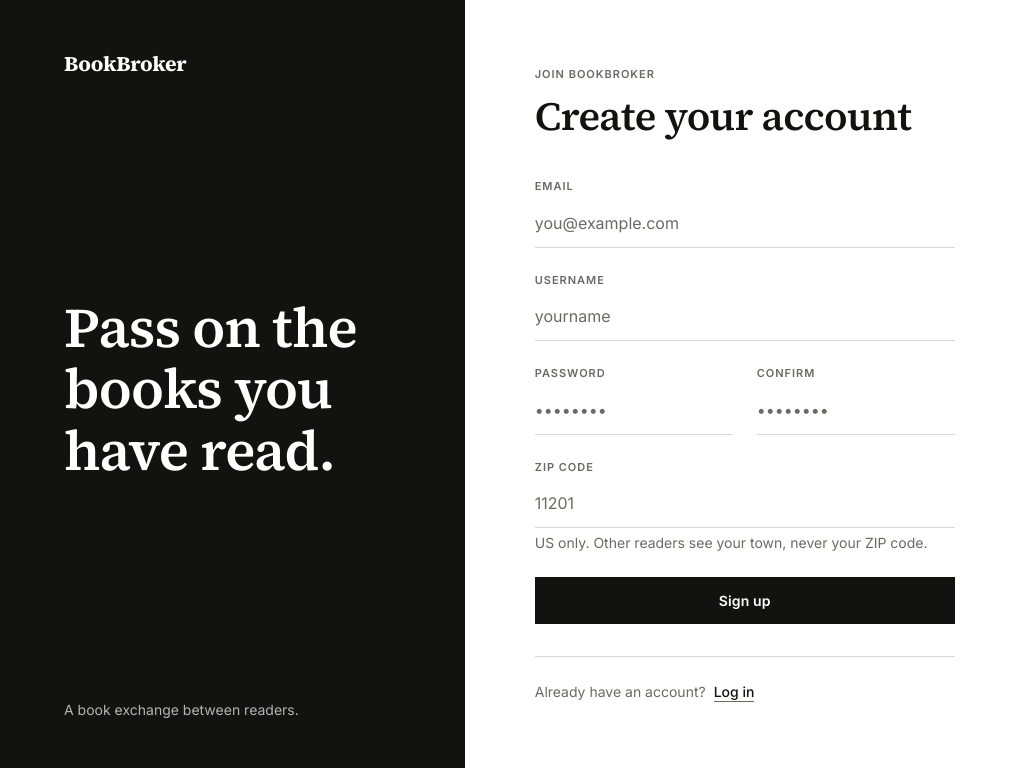
Test: sign-up ends on a check-your-email state
This screenshot has width=1024, height=768.
Type "reader@example.com" into the field labelled "Email" at (745, 223), box [535,199,955,248]
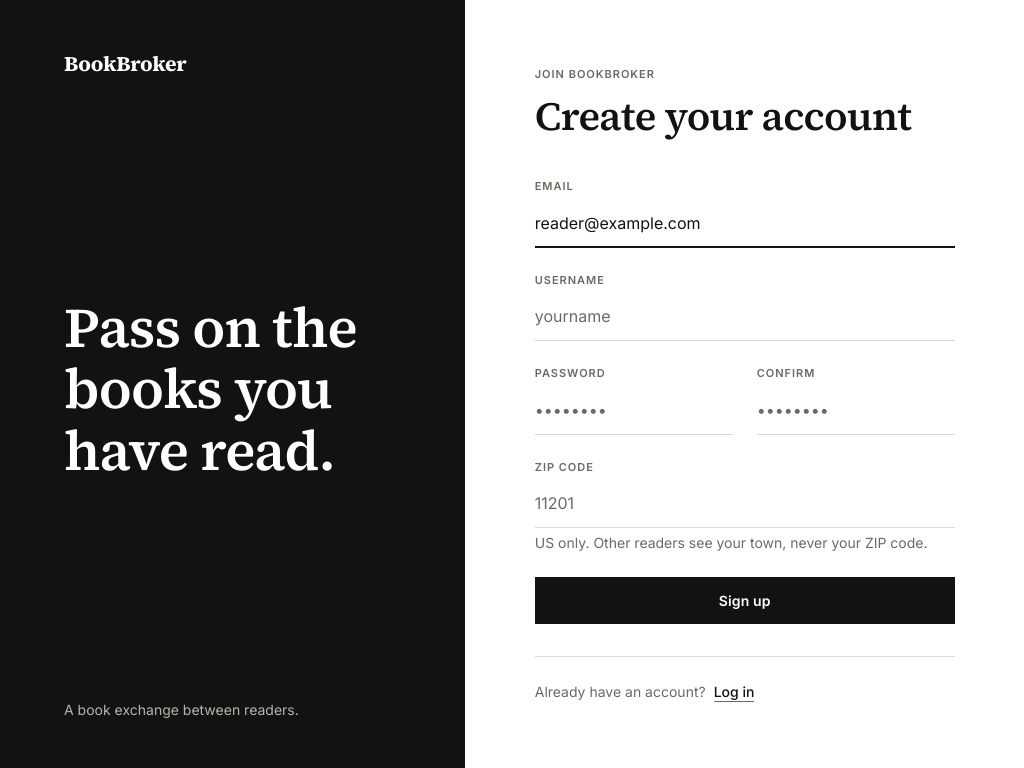
Type "reader" into the field labelled "Username" at (745, 317), box [535,292,955,341]
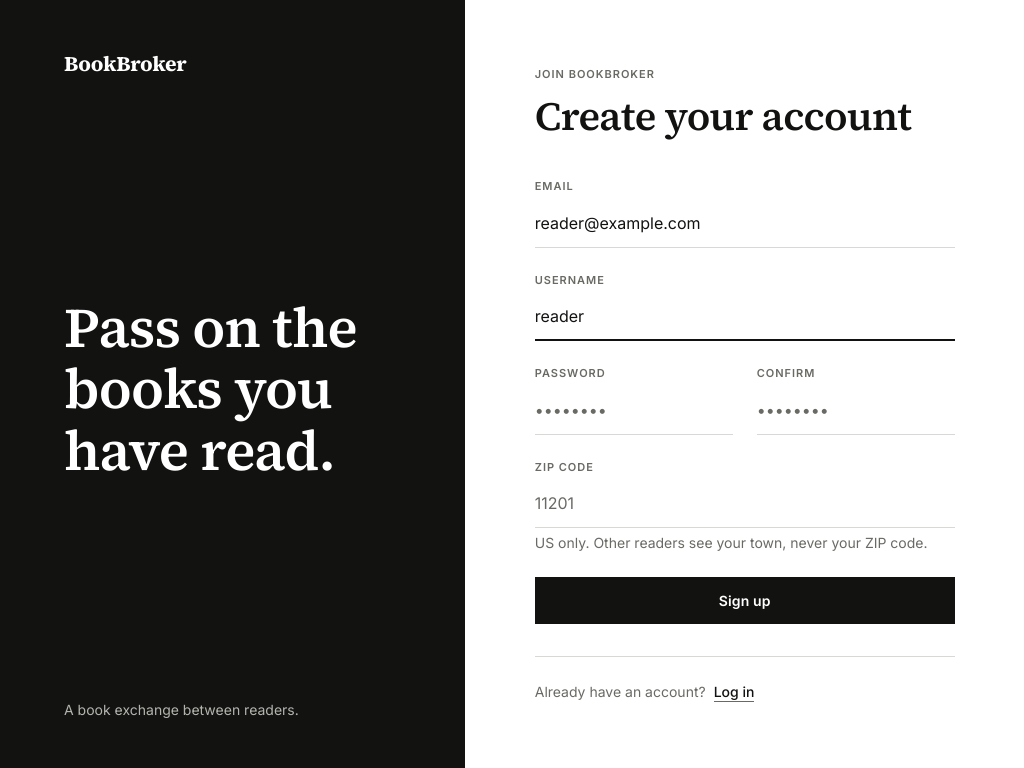
Type "Str0ngPassw0rd" into the password field labelled "Password" at (634, 410), box [535,386,733,435]
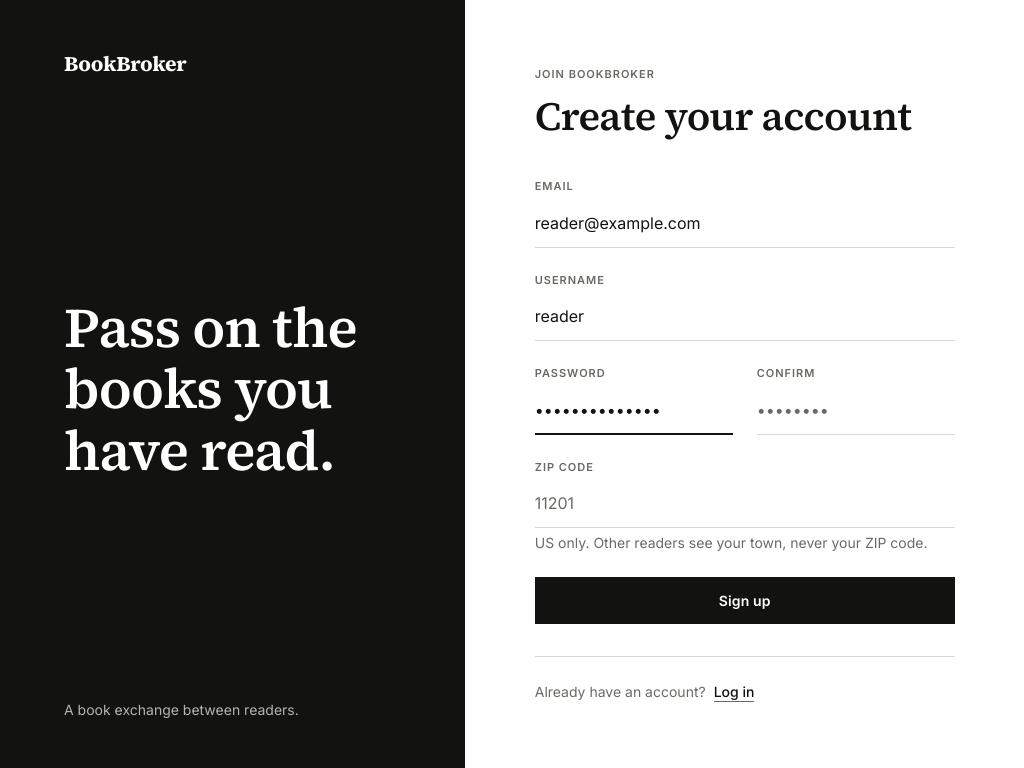
Type "Str0ngPassw0rd" into the password field labelled "Confirm" at (856, 410), box [757,386,955,435]
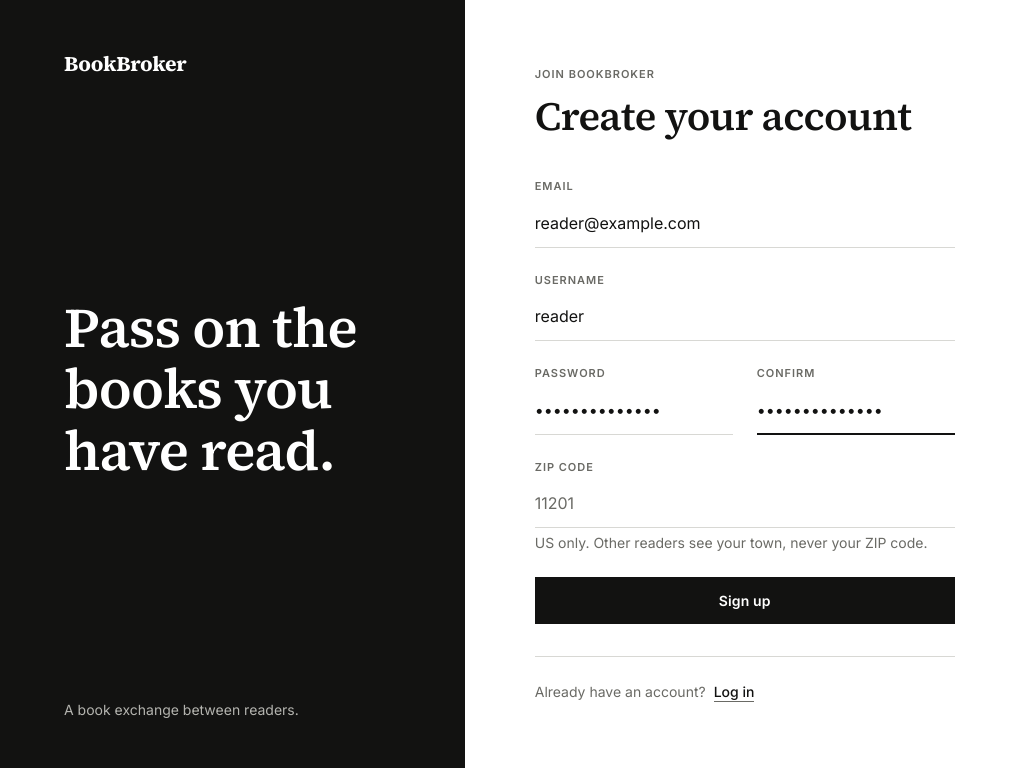
Type "60614-1234" into the field labelled "ZIP code" at (745, 504), box [535,479,955,528]
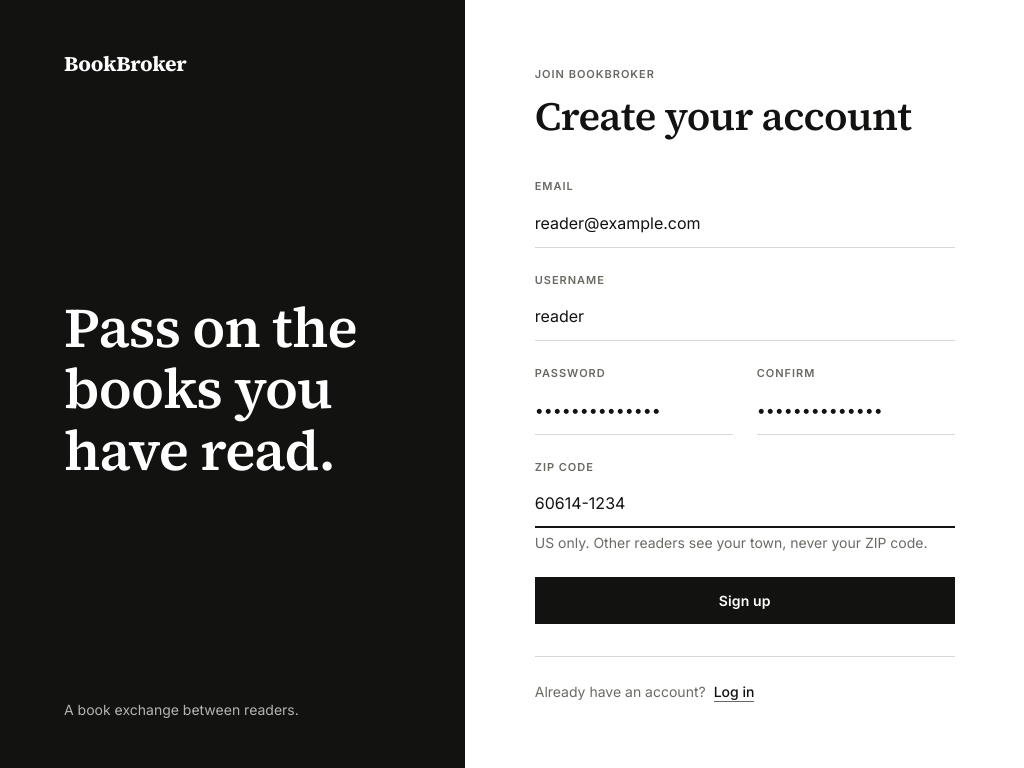
Click the button "Sign up" at (745, 601), box [535,577,955,624]
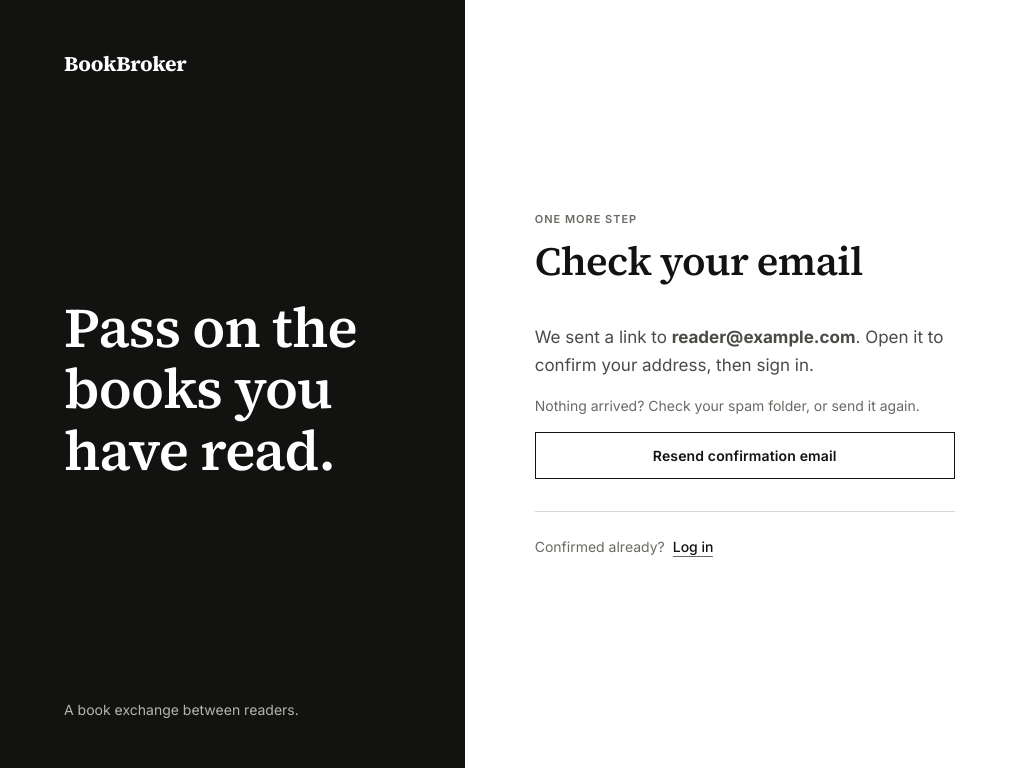
Check: the heading "Check your email" is shown, box [535,234,863,288]
Check: the text "reader@example.com" is shown, box [672,327,856,347]
Check: the button "Resend confirmation email" is shown, box [535,432,955,479]
